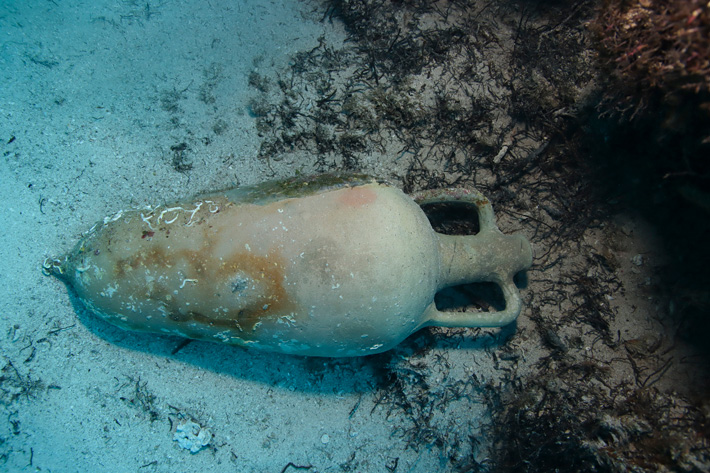amphora: (38, 180, 539, 360)
